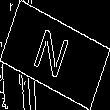N_SW: (33, 24, 77, 86)
